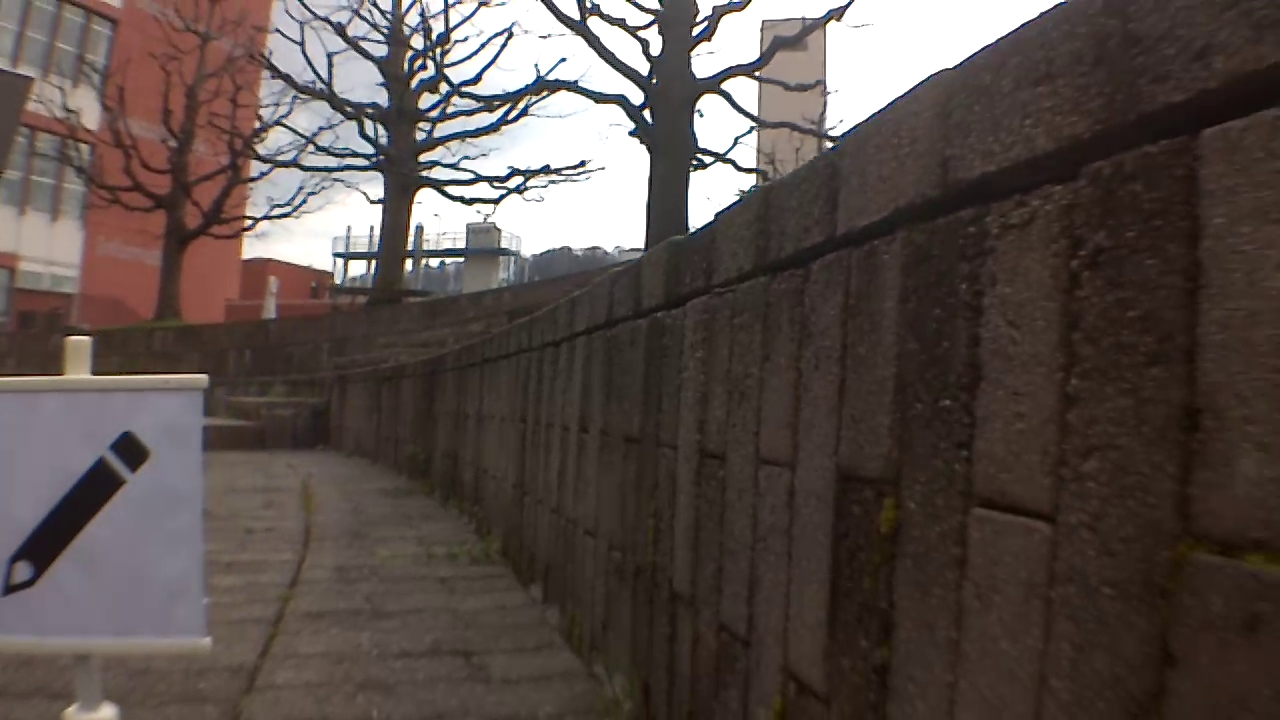pencil: (0, 432, 153, 605)
